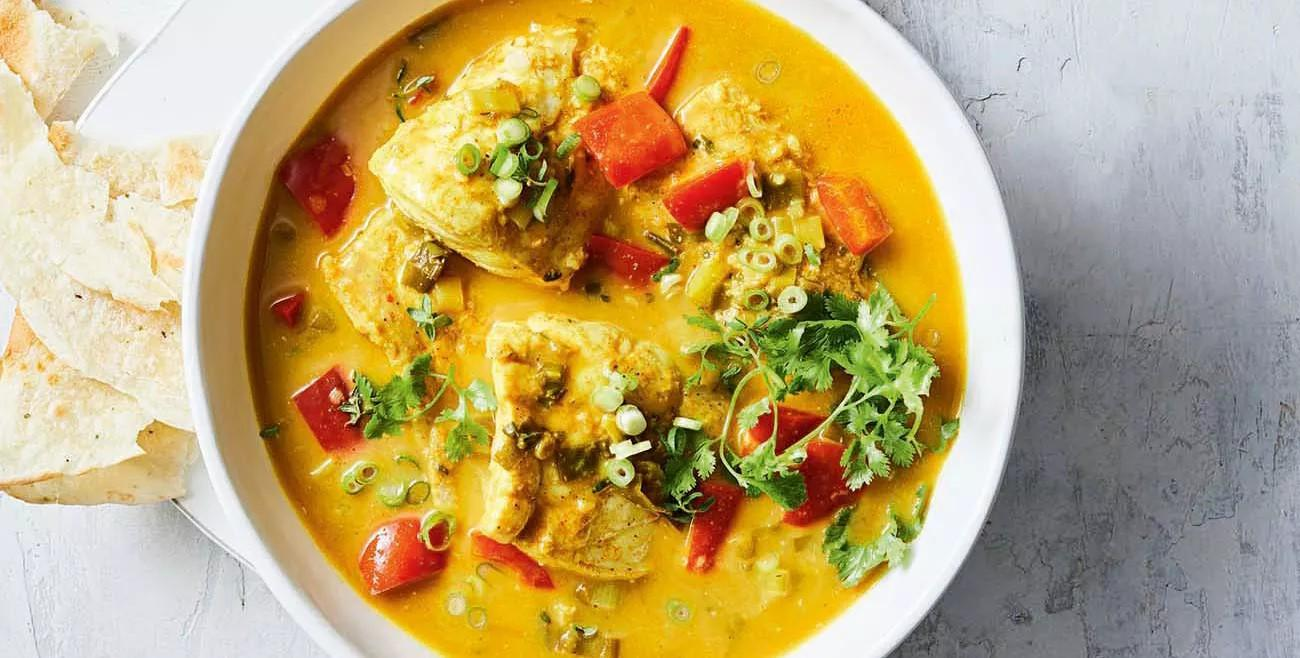FishCurry: (246, 1, 965, 658)
